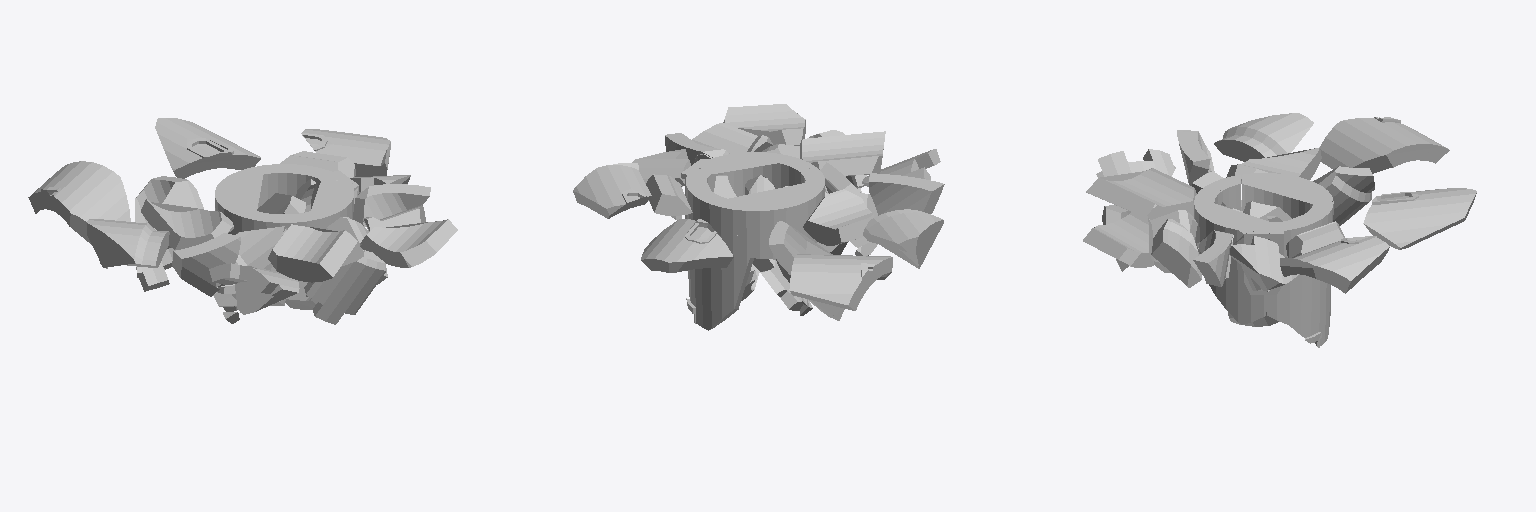
The model's file is destruction_tower_000073.obj.
3 renders of one model, left to right at view 1: azimuth 30°, elevation 25°; view 2: azimuth 150°, elevation 25°; view 3: azimuth 270°, elevation 25°, orthographic.
Parts seen in each view (by area): view 1: tower.001_cell.003_Mesh.003, tower.001_cell.025_Mesh.025, tower.001_cell.024_Mesh.024, tower.001_cell.011_Mesh.011, tower.001_cell.005_Mesh.005, tower.001_cell.021_Mesh.021, tower.001_cell.009_Mesh.009, tower.001_cell.006_Mesh.006, tower.001_cell.012_Mesh.012, tower.001_cell.007_Mesh.007, tower.001_cell.002_Mesh.002, tower.001_cell.010_Mesh.010 (+10 smaller); view 2: tower.001_cell.017_Mesh.017, tower.001_cell.015_Mesh.015, tower.001_cell.003_Mesh.003, tower.001_cell.025_Mesh.025, tower.001_cell.012_Mesh.012, tower.001_cell.005_Mesh.005, tower.001_cell.024_Mesh.024, tower.001_cell.028_Mesh.028, tower.001_cell.009_Mesh.009, tower.001_cell.021_Mesh.021, tower.001_cell.002_Mesh.002, tower.001_cell.007_Mesh.007 (+8 smaller); view 3: tower.001_cell.003_Mesh.003, tower.001_cell.025_Mesh.025, tower.001_cell.024_Mesh.024, tower.001_cell.012_Mesh.012, tower.001_cell.017_Mesh.017, tower.001_cell.005_Mesh.005, tower.001_cell.015_Mesh.015, tower.001_cell.021_Mesh.021, tower.001_cell.020_Mesh.020, tower.001_cell.028_Mesh.028, tower.001_cell_Mesh, tower.001_cell.007_Mesh.007 (+10 smaller).
Boxes of the visible parts, box(x1,y1,x2,y2) form: tower.001_cell.003_Mesh.003: box(28, 161, 130, 244); tower.001_cell.025_Mesh.025: box(155, 118, 260, 178); tower.001_cell.024_Mesh.024: box(268, 224, 357, 282); tower.001_cell.011_Mesh.011: box(304, 250, 386, 324); tower.001_cell.005_Mesh.005: box(87, 219, 169, 268); tower.001_cell.021_Mesh.021: box(360, 219, 457, 267); tower.001_cell.009_Mesh.009: box(141, 199, 233, 249); tower.001_cell.006_Mesh.006: box(209, 263, 299, 314); tower.001_cell.012_Mesh.012: box(301, 129, 390, 176); tower.001_cell.007_Mesh.007: box(135, 176, 203, 291); tower.001_cell.002_Mesh.002: box(172, 233, 240, 296); tower.001_cell.010_Mesh.010: box(353, 184, 430, 226); tower.001_cell.017_Mesh.017: box(686, 177, 753, 330); tower.001_cell.015_Mesh.015: box(723, 183, 823, 259); tower.001_cell.003_Mesh.003: box(789, 254, 892, 310); tower.001_cell.025_Mesh.025: box(641, 219, 733, 272); tower.001_cell.012_Mesh.012: box(573, 163, 651, 218); tower.001_cell.005_Mesh.005: box(863, 209, 943, 268); tower.001_cell.024_Mesh.024: box(800, 131, 885, 176); tower.001_cell.028_Mesh.028: box(701, 152, 813, 196); tower.001_cell.009_Mesh.009: box(803, 189, 873, 245); tower.001_cell.021_Mesh.021: box(723, 104, 805, 145); tower.001_cell.002_Mesh.002: box(869, 173, 944, 215); tower.001_cell.007_Mesh.007: box(769, 221, 844, 320); tower.001_cell.003_Mesh.003: box(1320, 117, 1449, 173); tower.001_cell.025_Mesh.025: box(1363, 188, 1476, 249); tower.001_cell.024_Mesh.024: box(1086, 168, 1196, 219); tower.001_cell.012_Mesh.012: box(1280, 236, 1389, 293); tower.001_cell.017_Mesh.017: box(1289, 201, 1333, 347); tower.001_cell.005_Mesh.005: box(1214, 113, 1313, 161); tower.001_cell.015_Mesh.015: box(1242, 173, 1332, 218); tower.001_cell.021_Mesh.021: box(1083, 209, 1153, 267); tower.001_cell.020_Mesh.020: box(1209, 229, 1269, 324); tower.001_cell.028_Mesh.028: box(1194, 189, 1270, 253); tower.001_cell_Mesh: box(1151, 219, 1201, 287); tower.001_cell.007_Mesh.007: box(1313, 166, 1374, 225).
Size of the model in its own units: 113 by 44.58 by 121.